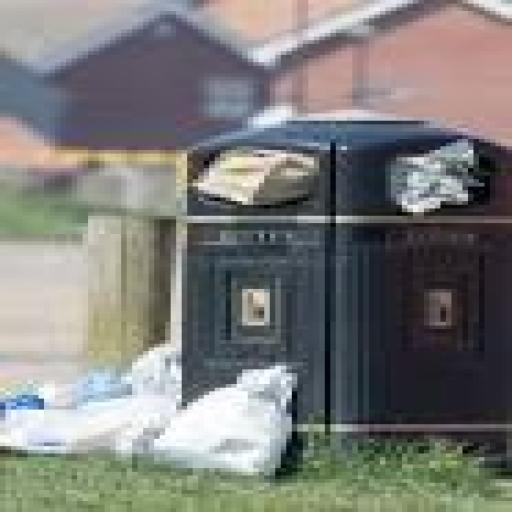poubelle_pleine: (126, 106, 512, 460)
